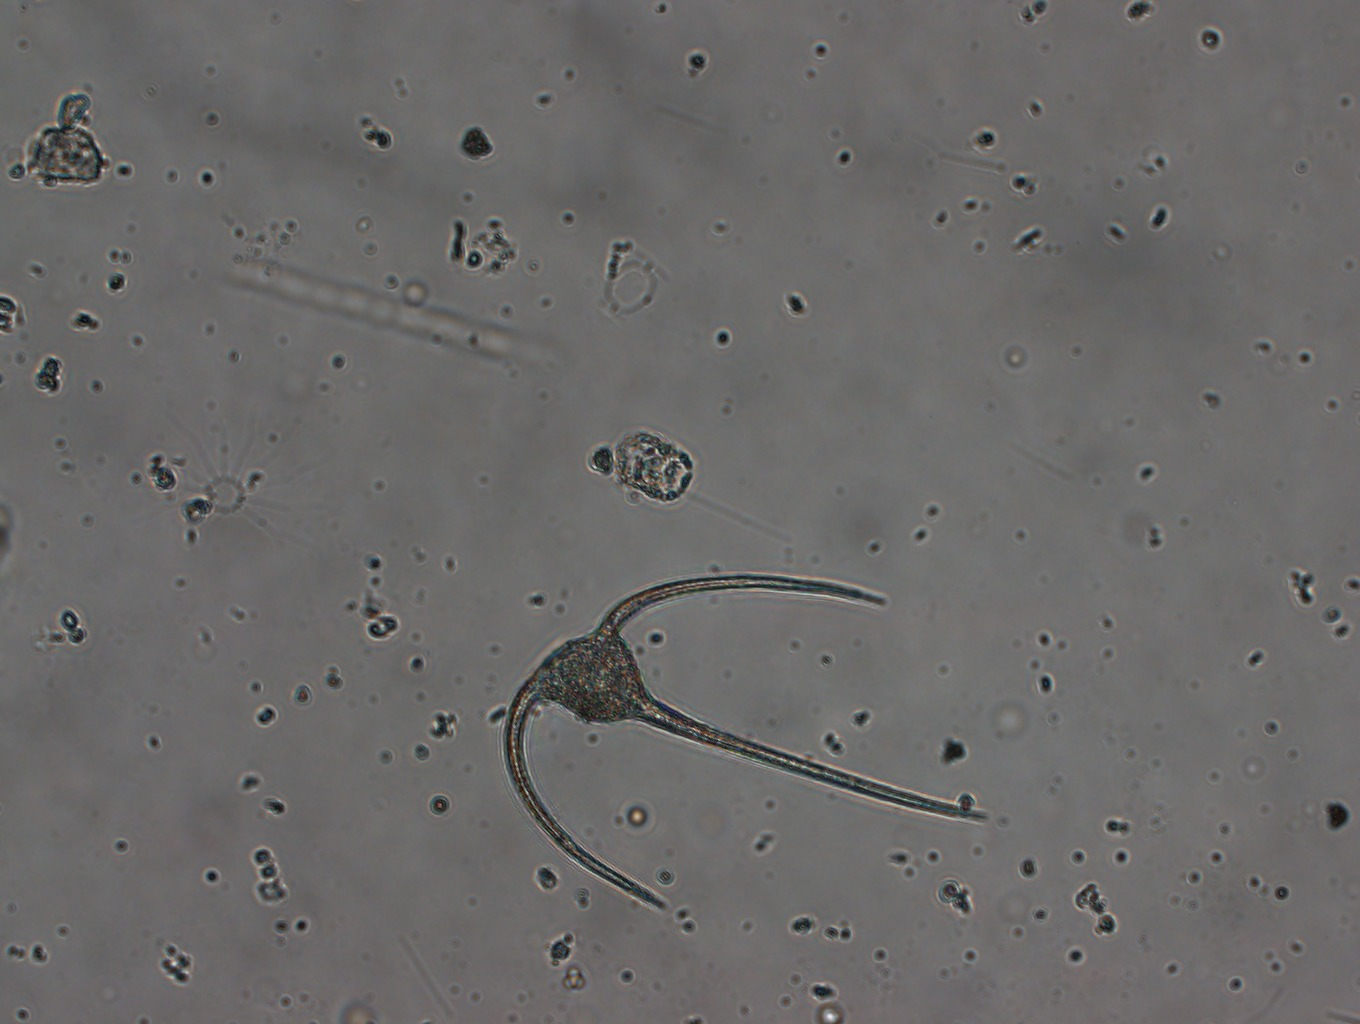ceratium trichoceros: (503, 575, 986, 910)
